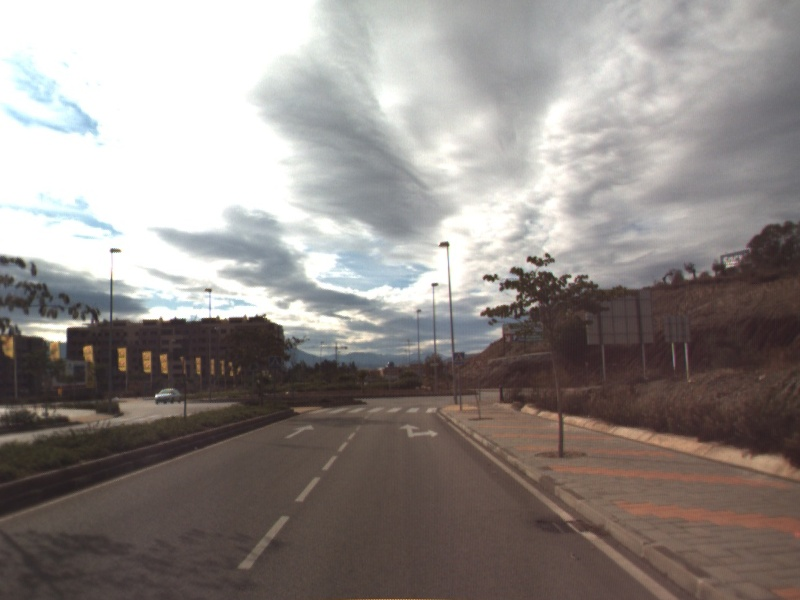STRAIGHT: (282, 422, 316, 440)
STRAIGHT_RIGHT: (398, 421, 440, 440)
